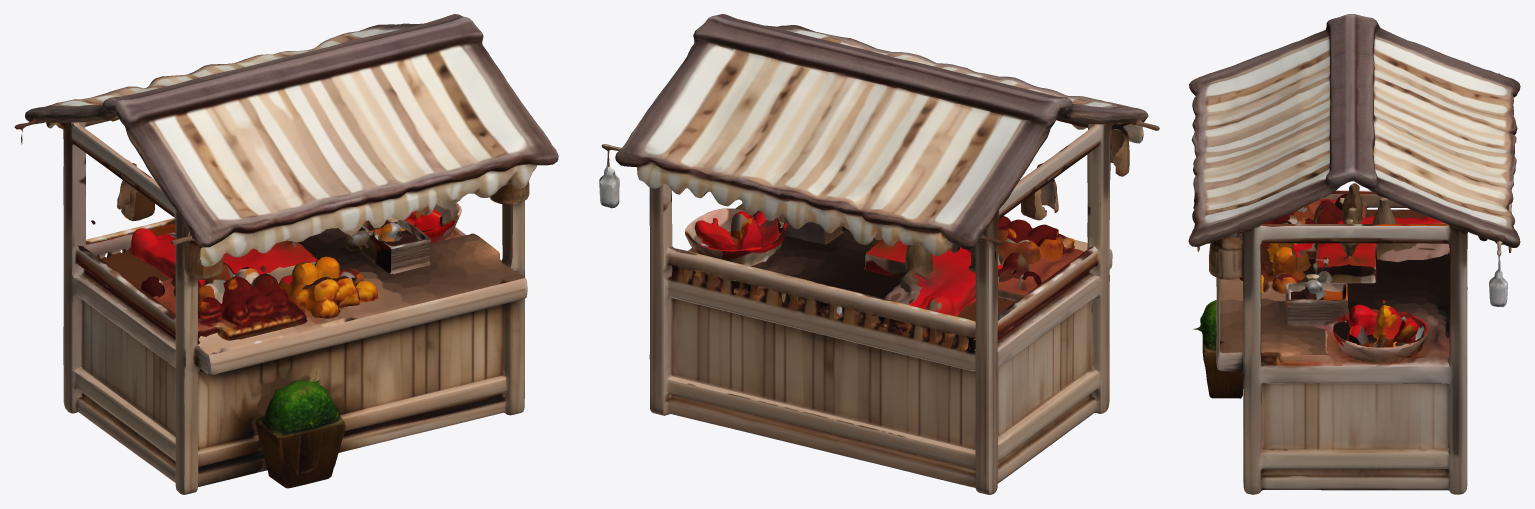
File: puesto_mercado.glb
The picture shows the model from 3 angles, left to right: view 1: azimuth 30°, elevation 25°; view 2: azimuth 150°, elevation 25°; view 3: azimuth 270°, elevation 25°; orthographic projection. The views are drawn at different scales.
Visible parts, largest first — view 1: tmpmfloso3v.ply; view 2: tmpmfloso3v.ply; view 3: tmpmfloso3v.ply.
Part boxes in pixels (<box>): tmpmfloso3v.ply: <box>14,14,558,494</box>; tmpmfloso3v.ply: <box>599,14,1159,494</box>; tmpmfloso3v.ply: <box>1188,14,1520,494</box>.
Bounding box in the file's own units: 0.99 × 0.8325 × 0.767.
Materials: 1 (1 with a texture image).
